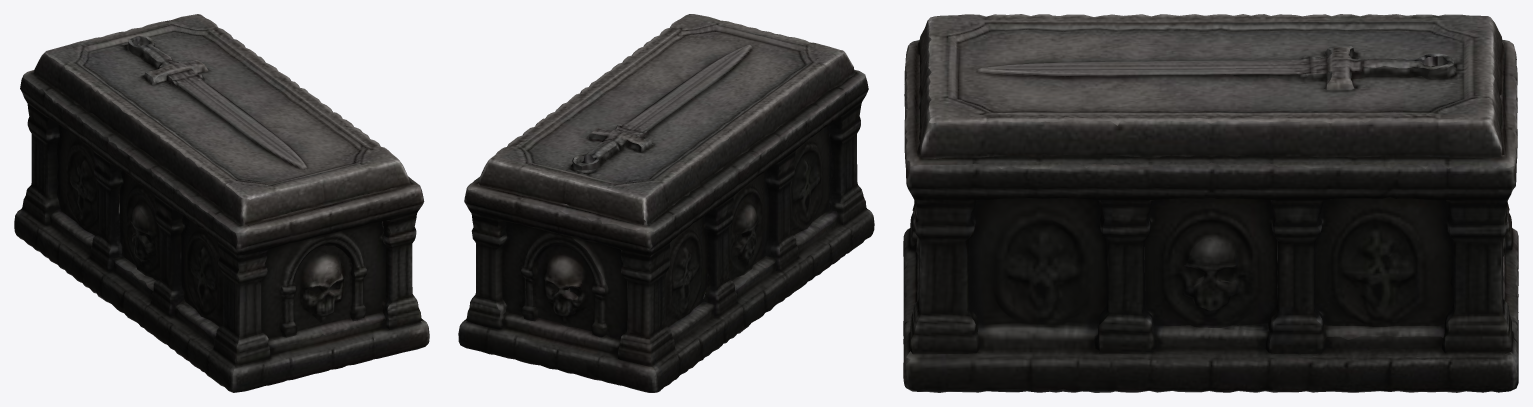
The model's file is sarcofago.glb.
3 views of the same model, side by side, from view 1: azimuth 30°, elevation 25°; view 2: azimuth 150°, elevation 25°; view 3: azimuth 270°, elevation 25° (orthographic). The views are drawn at different scales.
Visible parts, largest first — view 1: tmpoc_r41y4.ply; view 2: tmpoc_r41y4.ply; view 3: tmpoc_r41y4.ply.
Boxes of the visible parts, x1,y1,x2,y2 form: tmpoc_r41y4.ply: [14, 14, 429, 392]; tmpoc_r41y4.ply: [458, 14, 874, 392]; tmpoc_r41y4.ply: [903, 14, 1518, 392].
Bounding box in the file's own units: 1.02 × 0.944 × 1.96.
1 material, 1 textured.
